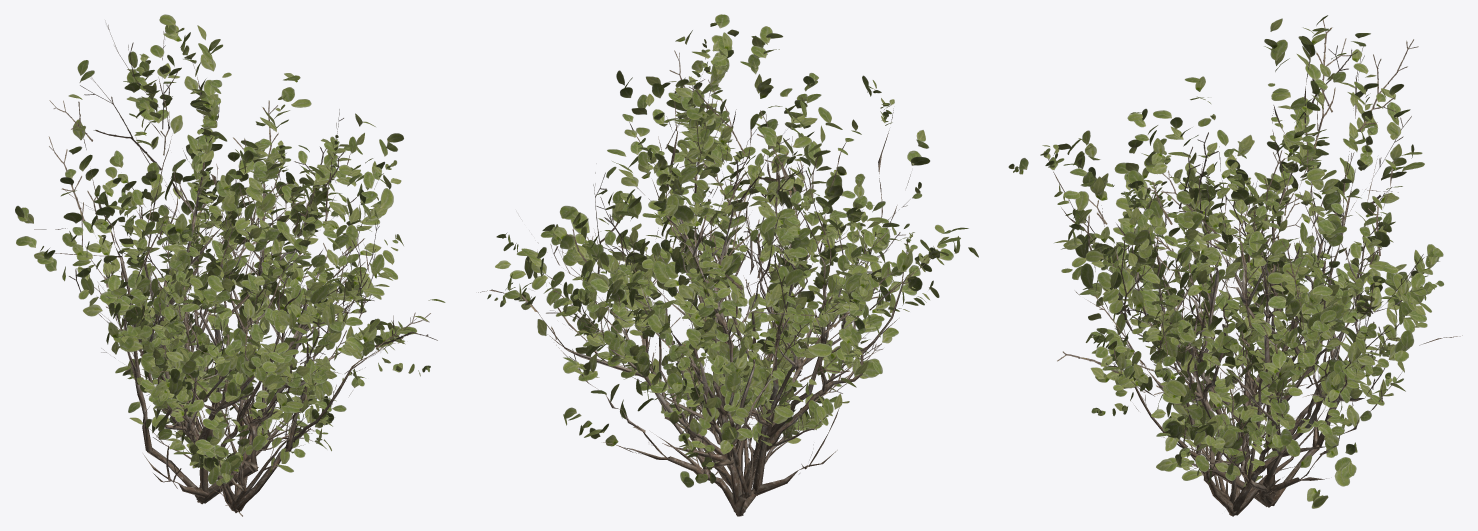
Rendered from buta.glb.
3 renders of one model, left to right at view 1: azimuth 30°, elevation 25°; view 2: azimuth 150°, elevation 25°; view 3: azimuth 270°, elevation 25°, orthographic. The views are drawn at different scales.
Visible parts, largest first — view 1: buta_0, buta_1, buta_2; view 2: buta_0, buta_1, buta_2; view 3: buta_0, buta_1, buta_2.
Boxes of the visible parts, bbox=[...] form: buta_0: bbox=[15, 14, 437, 504]; buta_1: bbox=[113, 186, 445, 512]; buta_2: bbox=[129, 312, 353, 516]; buta_0: bbox=[478, 14, 978, 516]; buta_1: bbox=[599, 151, 950, 492]; buta_2: bbox=[650, 297, 849, 487]; buta_0: bbox=[1008, 15, 1462, 508]; buta_1: bbox=[1090, 142, 1381, 516]; buta_2: bbox=[1169, 265, 1302, 503].
Bounding box in the file's own units: 1.78 × 2.34 × 1.97.
Materials: 3 (3 with a texture image).
